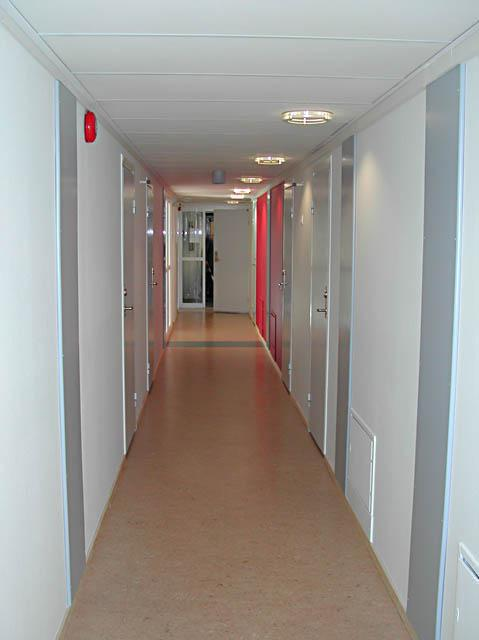Puerta: (307, 160, 328, 457), (120, 159, 137, 452), (281, 186, 293, 391), (147, 181, 155, 387)
